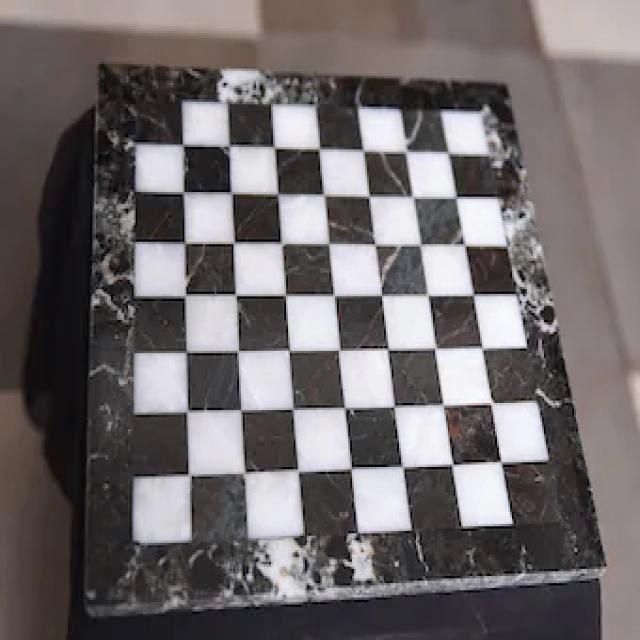chess-table-corners: (115, 513, 156, 560), (540, 499, 582, 540), (124, 88, 160, 122), (460, 101, 491, 133)
